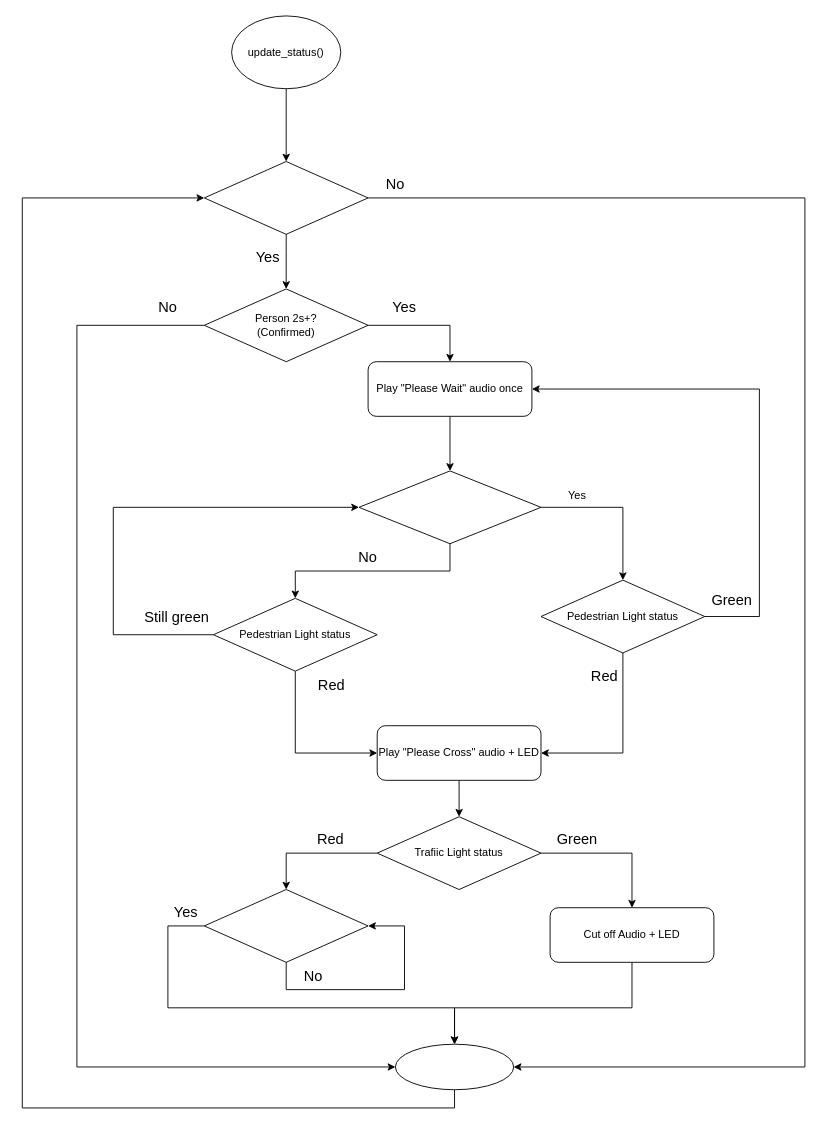
Some shapes in this 828 by 1131 pixel diagram are drawn without their labels. The centre of each missing label's shape, as x and y in pixels:
"Person in ROI?" goes at point (285, 197).
"Return" goes at point (454, 1066).
"Time > 10 seconds ?" goes at point (449, 507).
"Time > 15 second?" goes at point (285, 925).
